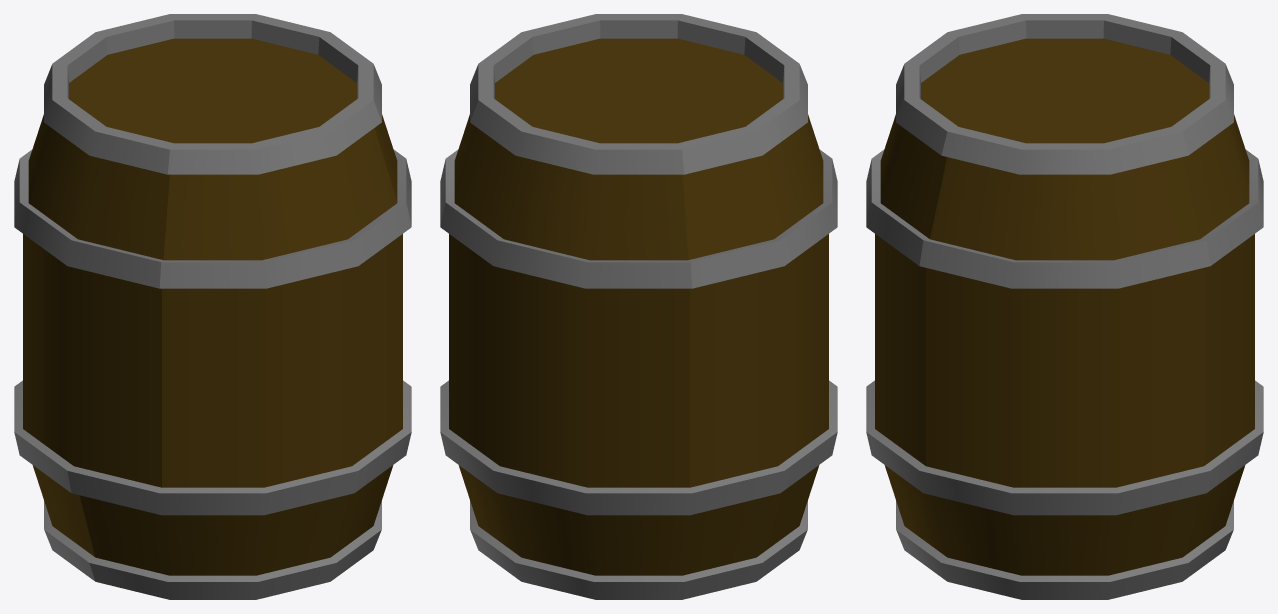
File: Barrel_Mod.fbx
3 views of the same model, side by side, from view 1: azimuth 30°, elevation 25°; view 2: azimuth 150°, elevation 25°; view 3: azimuth 270°, elevation 25° (orthographic).
Parts seen in each view (by area): view 1: Barrel; view 2: Barrel; view 3: Barrel.
Boxes of the visible parts, box(x1,y1,x2,y2) form: Barrel: box(14, 14, 411, 599); Barrel: box(440, 14, 837, 599); Barrel: box(866, 14, 1263, 599).
Bounding box in the file's own units: 85.23 × 106 × 85.23.
